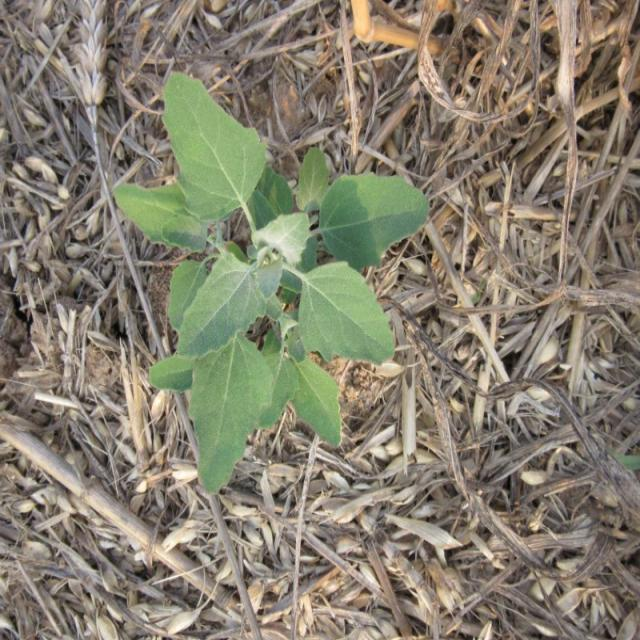ca: (116, 71, 430, 493)
